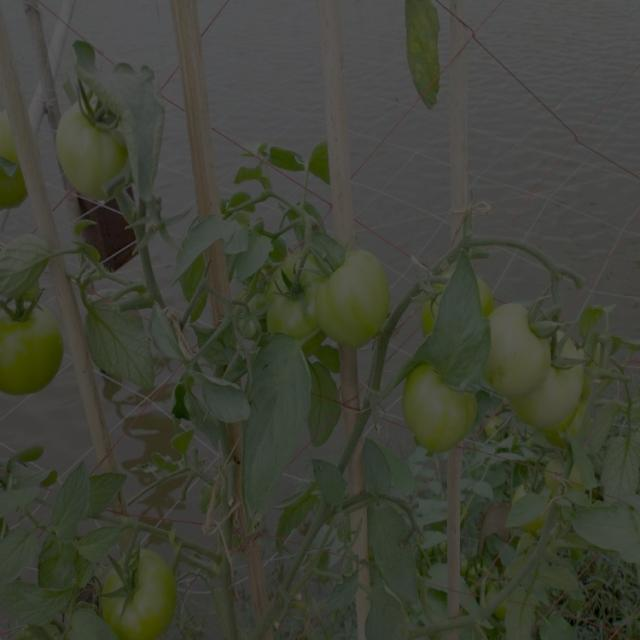tomato: (313, 248, 394, 345), (98, 544, 175, 640), (1, 299, 69, 404), (400, 365, 479, 455), (508, 333, 588, 419), (488, 295, 558, 393), (59, 101, 127, 194), (265, 270, 313, 340), (1, 130, 30, 209), (518, 471, 557, 502)
